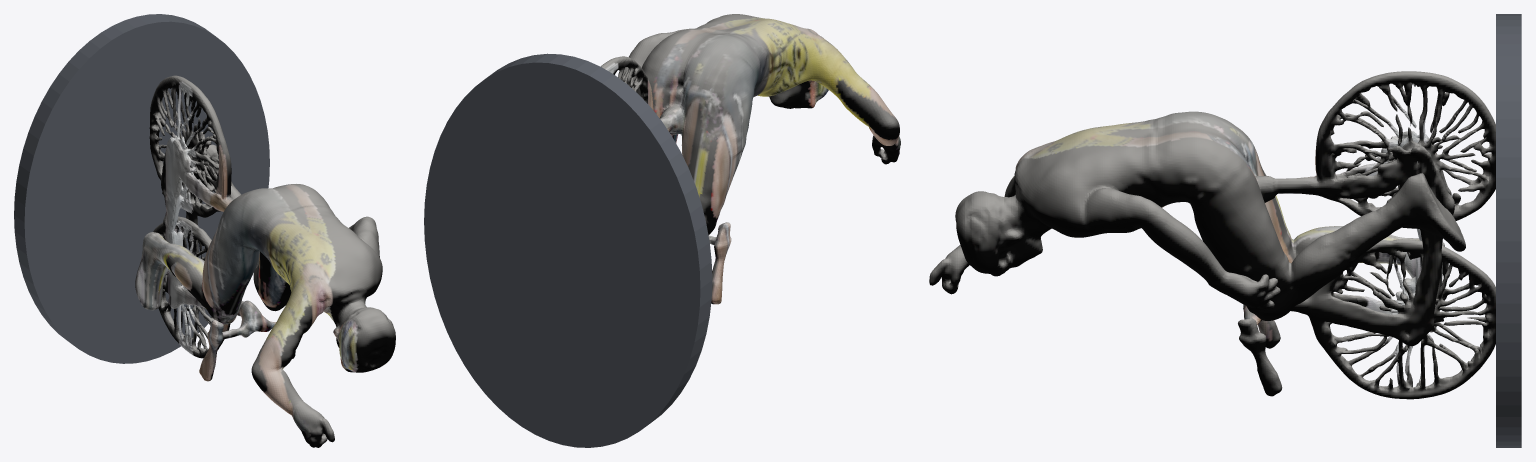
File: Chien_Avec_Socle_Hunyuan.glb
The picture shows the model from 3 angles, left to right: view 1: azimuth 30°, elevation 25°; view 2: azimuth 150°, elevation 25°; view 3: azimuth 270°, elevation 25°; orthographic projection. The views are drawn at different scales.
Visible parts, largest first — view 1: geometry_0; view 2: geometry_0; view 3: geometry_0.
Part boxes in pixels (x1,y1,x2,y2): geometry_0: (14,14,395,447); geometry_0: (424,14,900,447); geometry_0: (929,14,1521,447).
Size of the model in its own units: 60.16 by 78.94 by 104.
